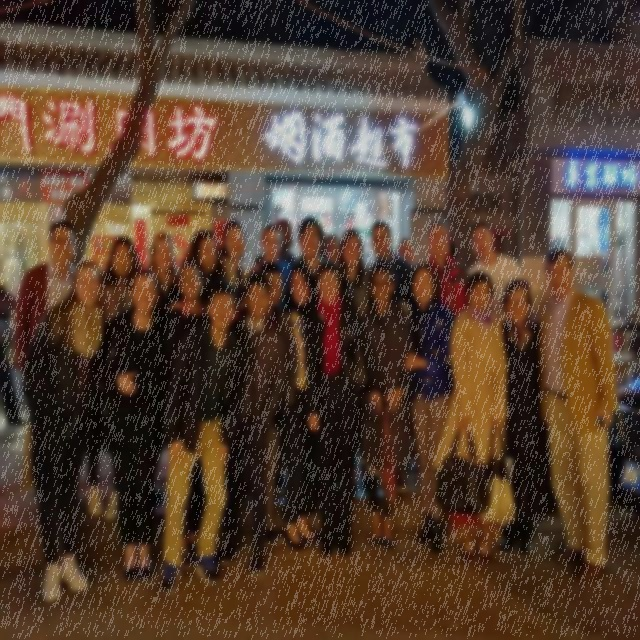pessoa: (16, 255, 114, 606), (534, 240, 624, 586), (156, 272, 249, 597), (430, 266, 520, 568), (97, 264, 177, 582), (215, 271, 291, 578), (300, 255, 374, 561), (354, 256, 414, 552), (403, 259, 460, 558), (85, 234, 143, 522), (273, 257, 329, 553), (496, 276, 554, 559), (235, 259, 287, 547), (13, 218, 80, 376), (466, 220, 526, 326), (162, 261, 210, 384), (424, 218, 471, 316), (366, 218, 416, 308), (214, 218, 256, 312), (0, 278, 26, 428), (180, 227, 230, 303), (336, 226, 374, 324), (147, 231, 183, 332), (250, 222, 294, 298), (294, 214, 329, 283), (261, 216, 301, 266), (318, 232, 342, 266), (396, 237, 418, 269)
